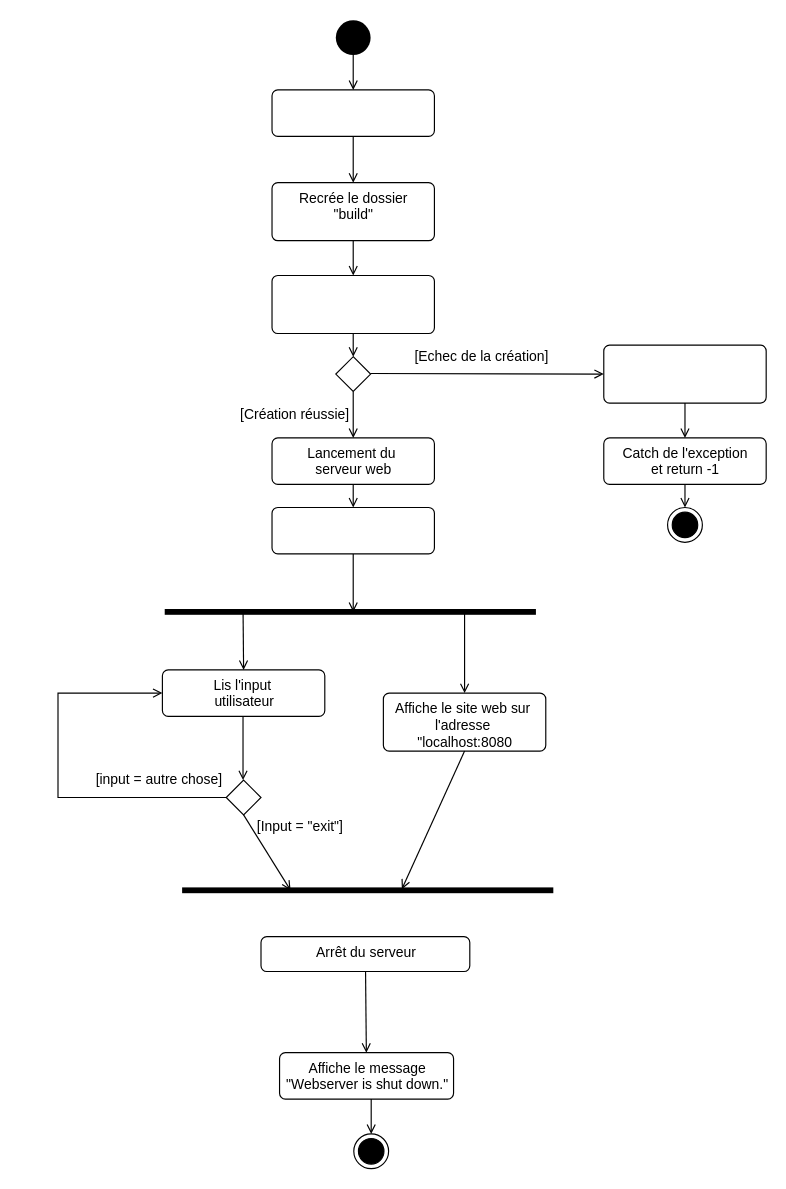
This 786x1189 diagram has some shape labels left out. Each missing label, with the centre of its shape:
"Affiche les informations du site dans la console" belongs at point 352,530.
"Création d'un serveur web local" belongs at point 352,304.
"Lancement d'une exception" belongs at point 684,373.
"Utilisation de la commande Serve" belongs at point 352,112.
